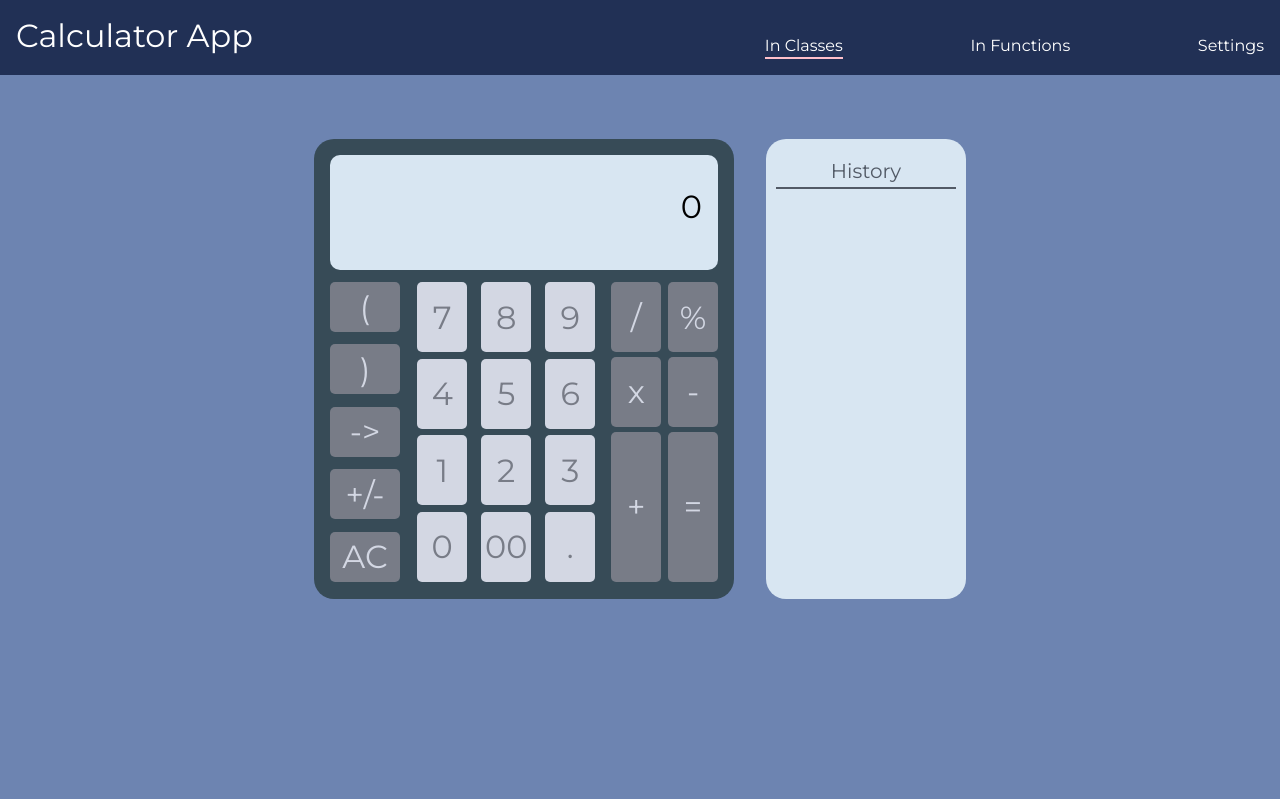
Calculation operations › base 2 + 3 = 5
Click the button "2" at (506,470), box [481,435,531,505]
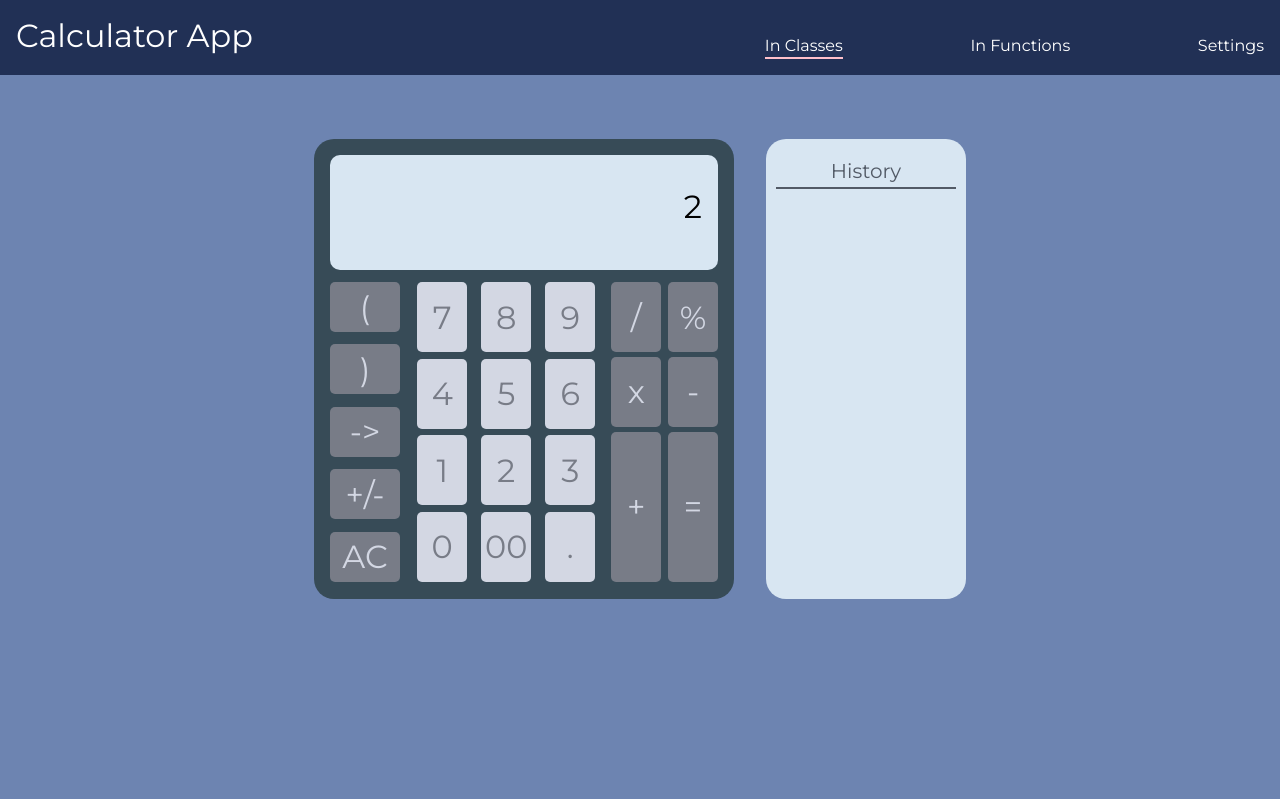
Click the button "+" at (636,507), box [611,432,661,582]
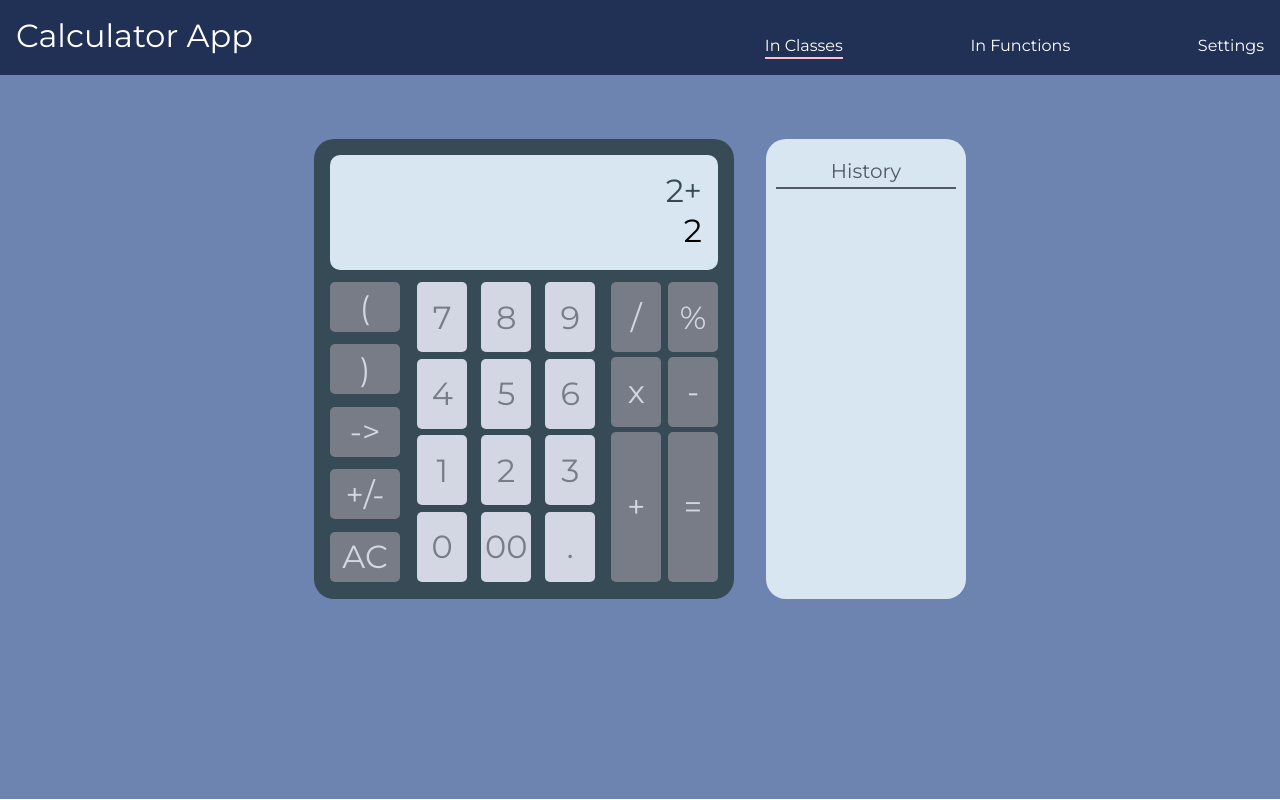
Expected: the text with test id "expression-result" reads "2+", [666,171,702,210]
Expected: the text with test id "result" reads "2", [684,211,702,250]
Click the button "3" at (570,470), box [545,435,595,505]
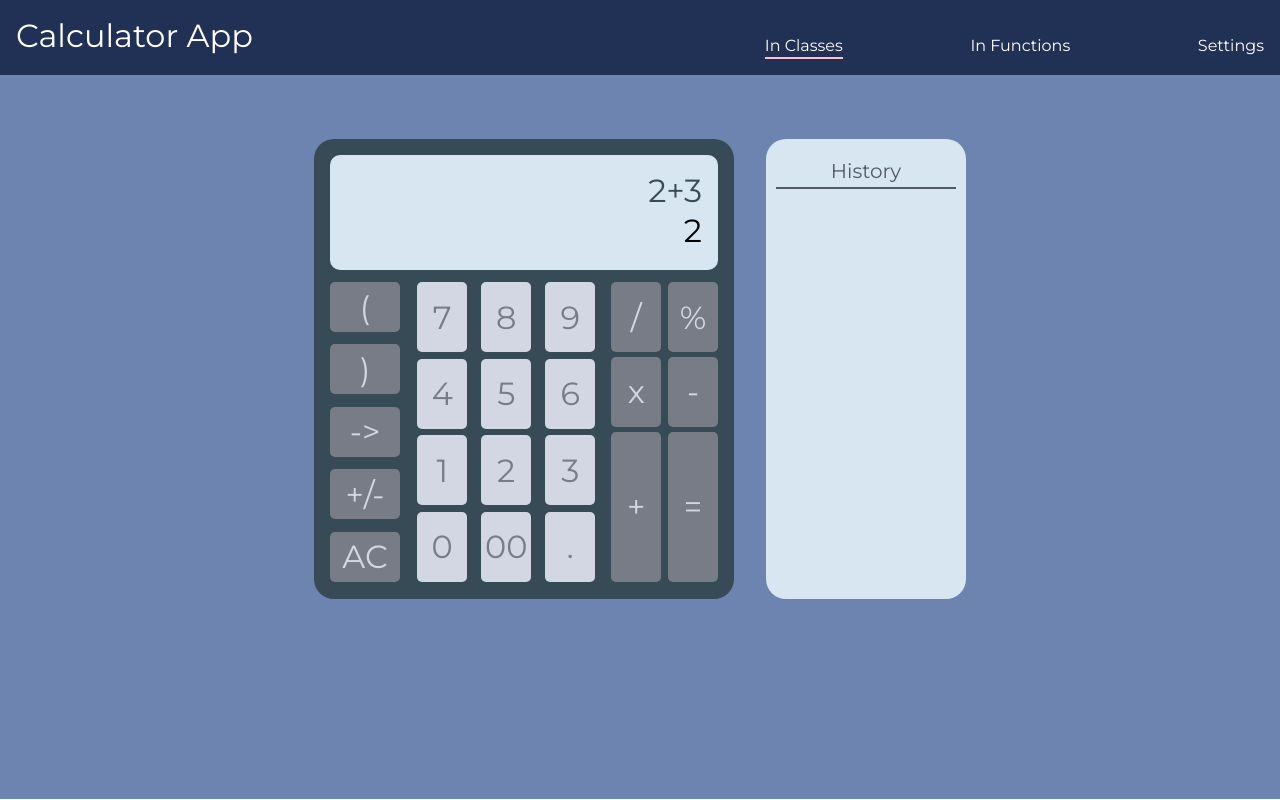
Expected: the text with test id "expression-result" reads "2+3", [648,171,702,210]
Click the button "=" at (693,507), box [668,432,718,582]
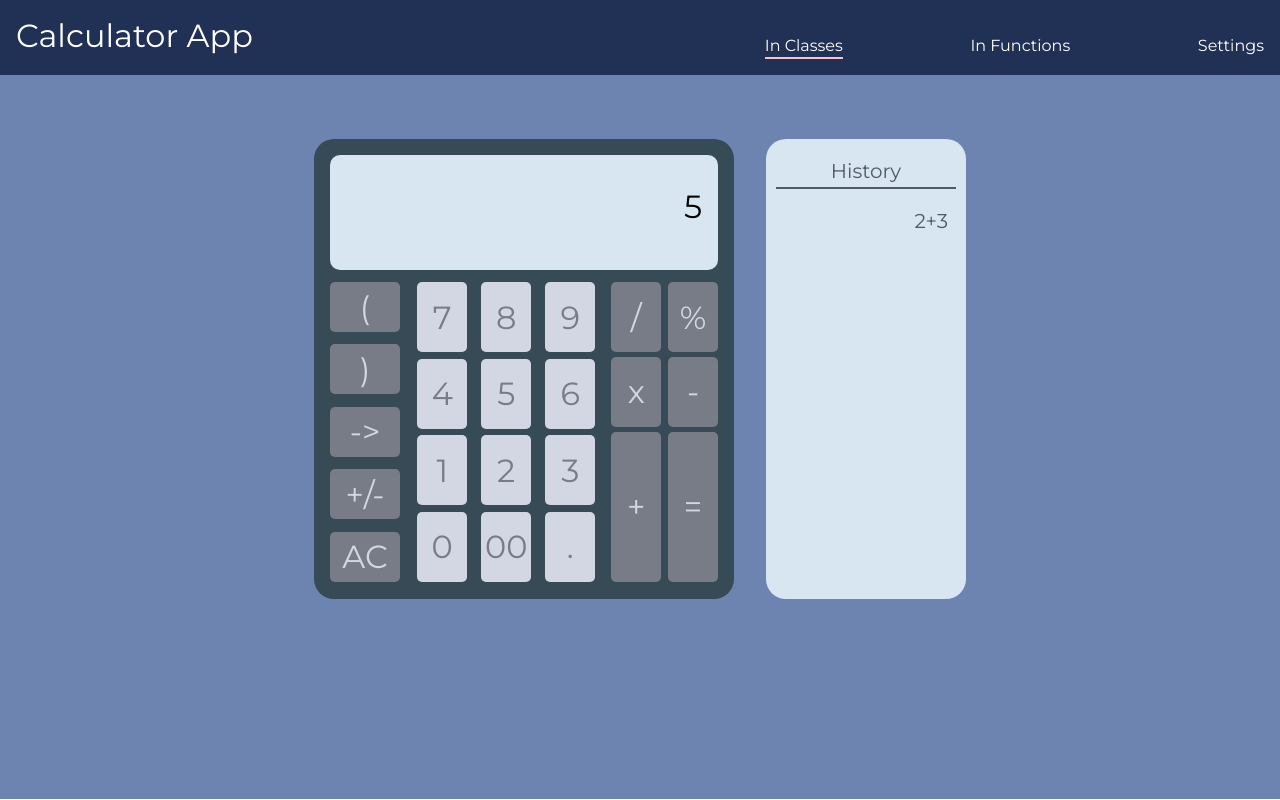
Expected: the text with test id "expression-result" reads "5", [684,187,702,226]
